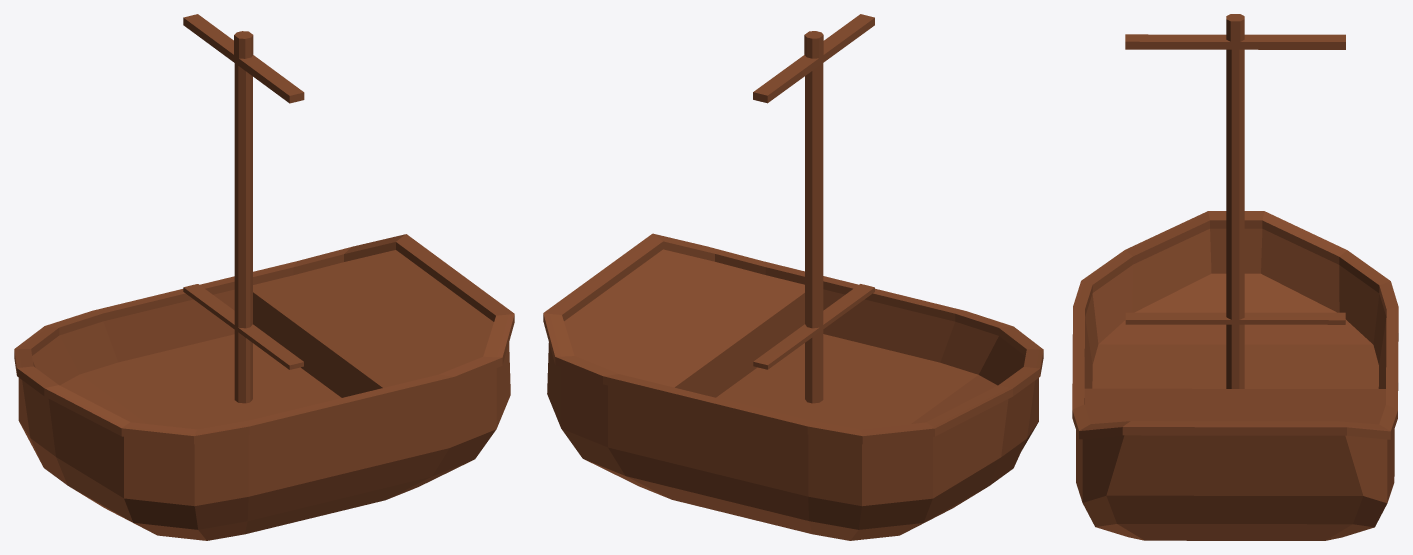
File: ship1.glb
3 renders of one model, left to right at view 1: azimuth 30°, elevation 25°; view 2: azimuth 150°, elevation 25°; view 3: azimuth 270°, elevation 25°, orthographic. The views are drawn at different scales.
Parts seen in each view (by area): view 1: ship1; view 2: ship1; view 3: ship1.
Boxes of the visible parts, bbox=[...] form: ship1: bbox=[14, 14, 514, 540]; ship1: bbox=[543, 14, 1043, 540]; ship1: bbox=[1072, 14, 1398, 540].
Size of the model in its own units: 3.21 by 3.19 by 2.05.
Materials: 1 (1 with a texture image).
